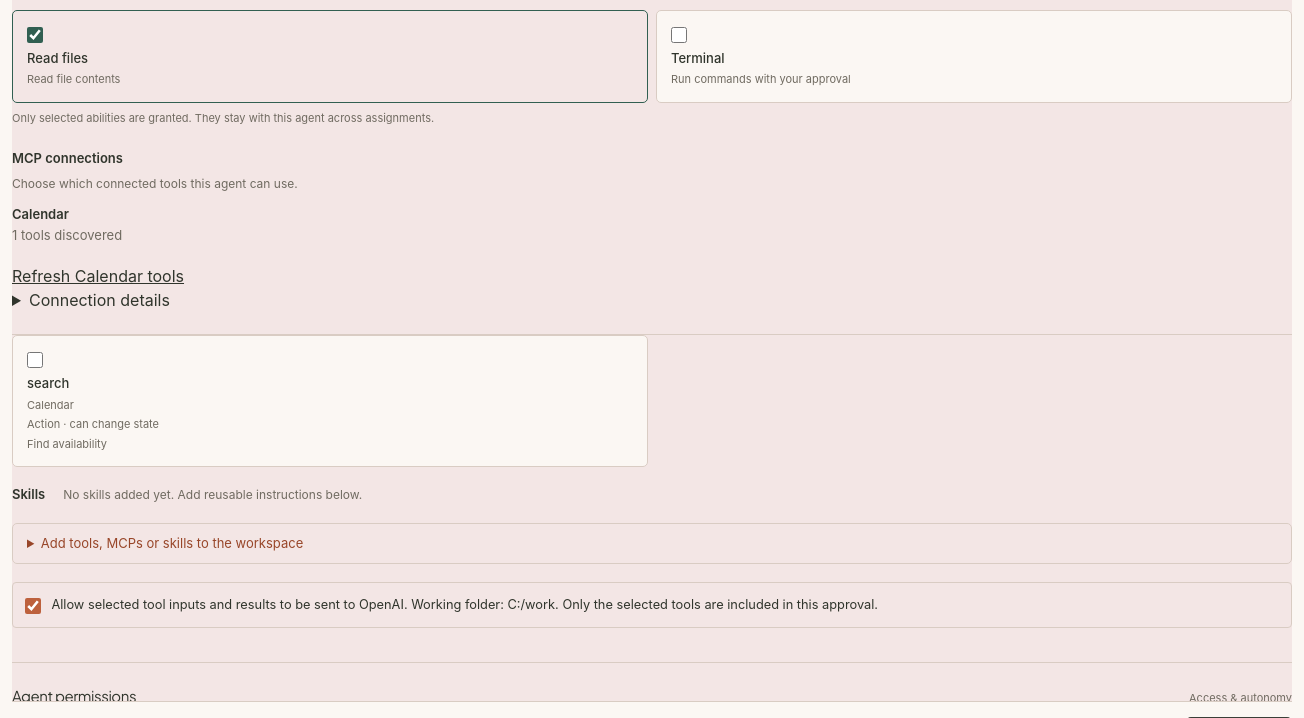
Test: retains consent for an unchanged hosted scope and requests it again when adding a tool
(page scrolled)
Expected: the checkbox labelled "Allow selected tool inputs and results" is checked, left=25, top=598, right=41, bottom=614
Click the checkbox named "Calendar: search" at (35, 360), box left=27, top=352, right=43, bottom=368
(page scrolled)
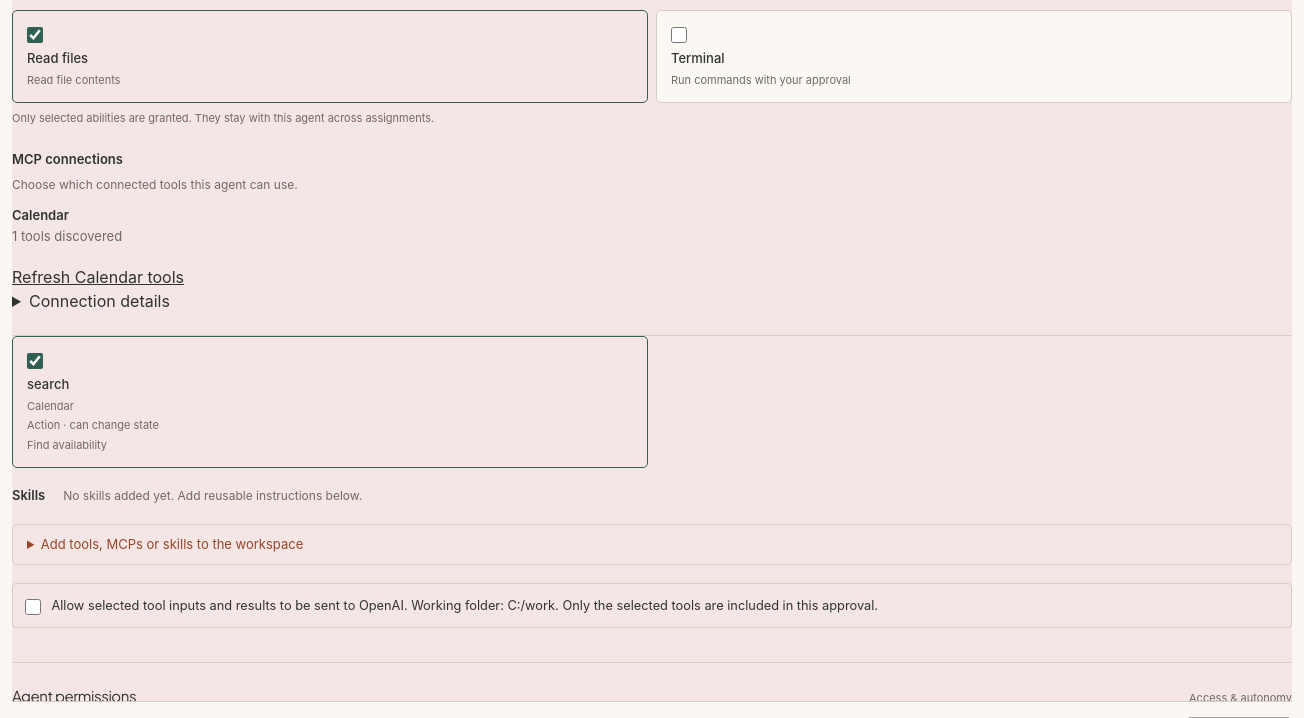
Expected: the checkbox labelled "Allow selected tool inputs and results" is not checked
Click the checkbox labelled "Allow selected tool inputs and results" at (33, 607), box left=25, top=599, right=41, bottom=615
(page scrolled)
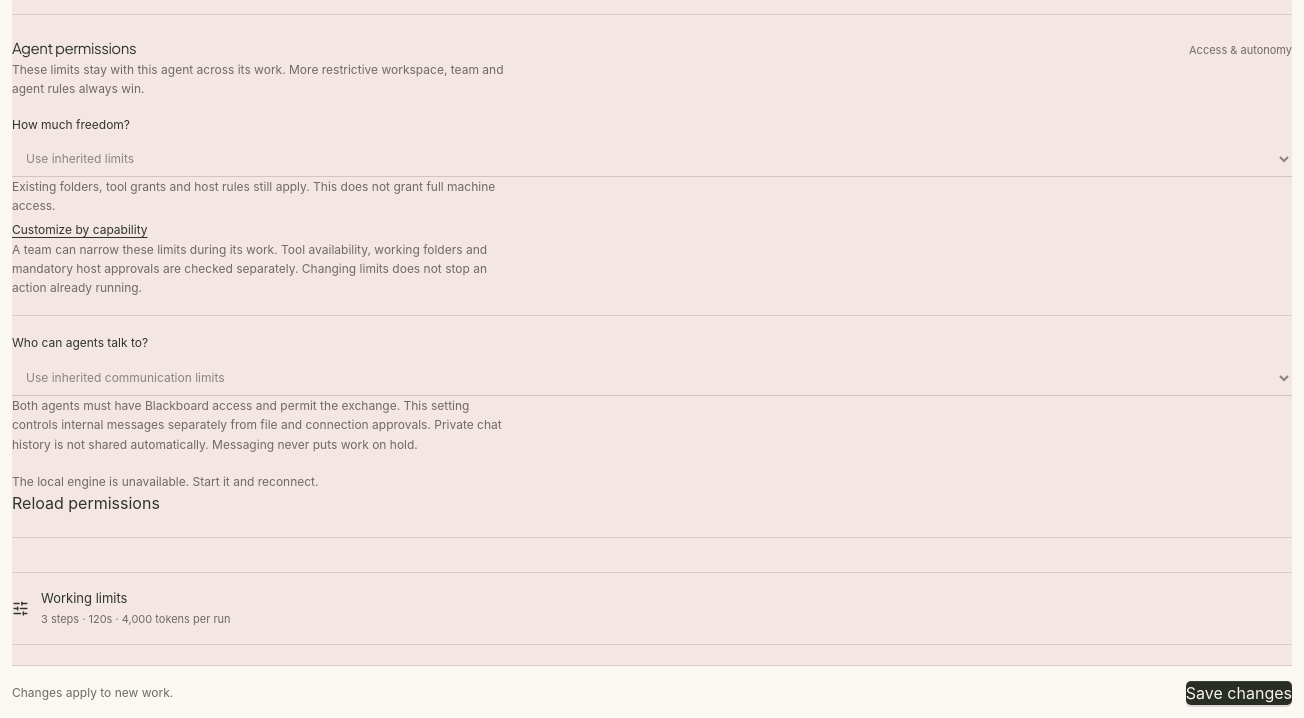
Expected: the button "Save changes" is enabled, left=1186, top=681, right=1292, bottom=705
